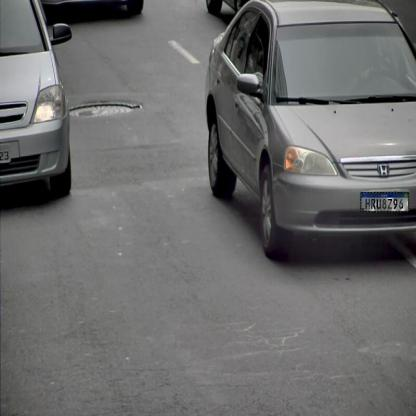PlacaM: (361, 192, 410, 212)
